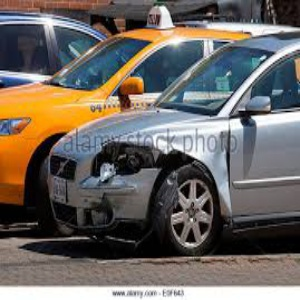bumper: (84, 166, 161, 224)
